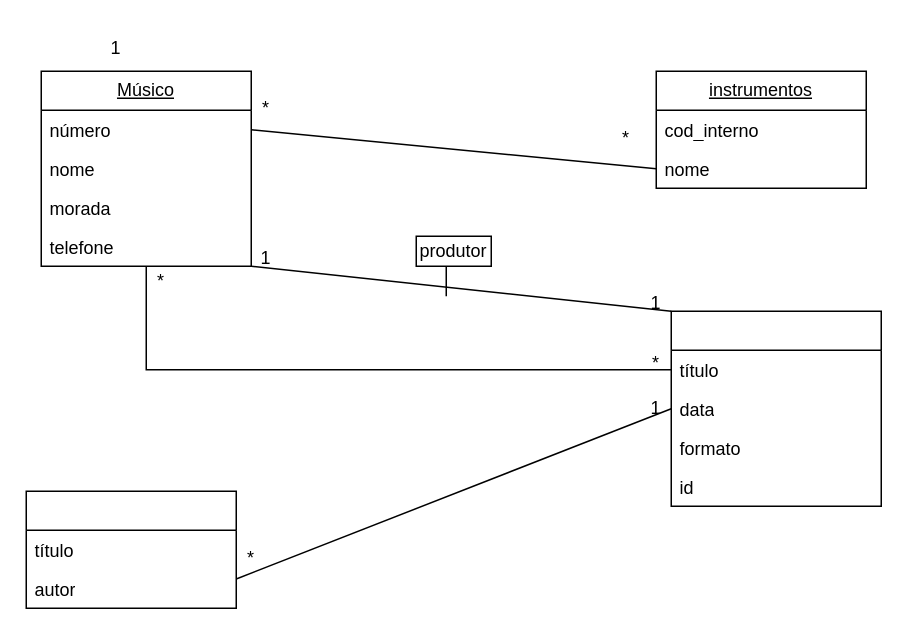
The diagram is 908 pixels wide and 638 high, and some of its shapes have lost their labels. The box of each missing label's shape, as (x1, y1, x2, y2) in pixels:
Disco: (670, 310, 881, 506)
Música: (25, 490, 236, 608)
